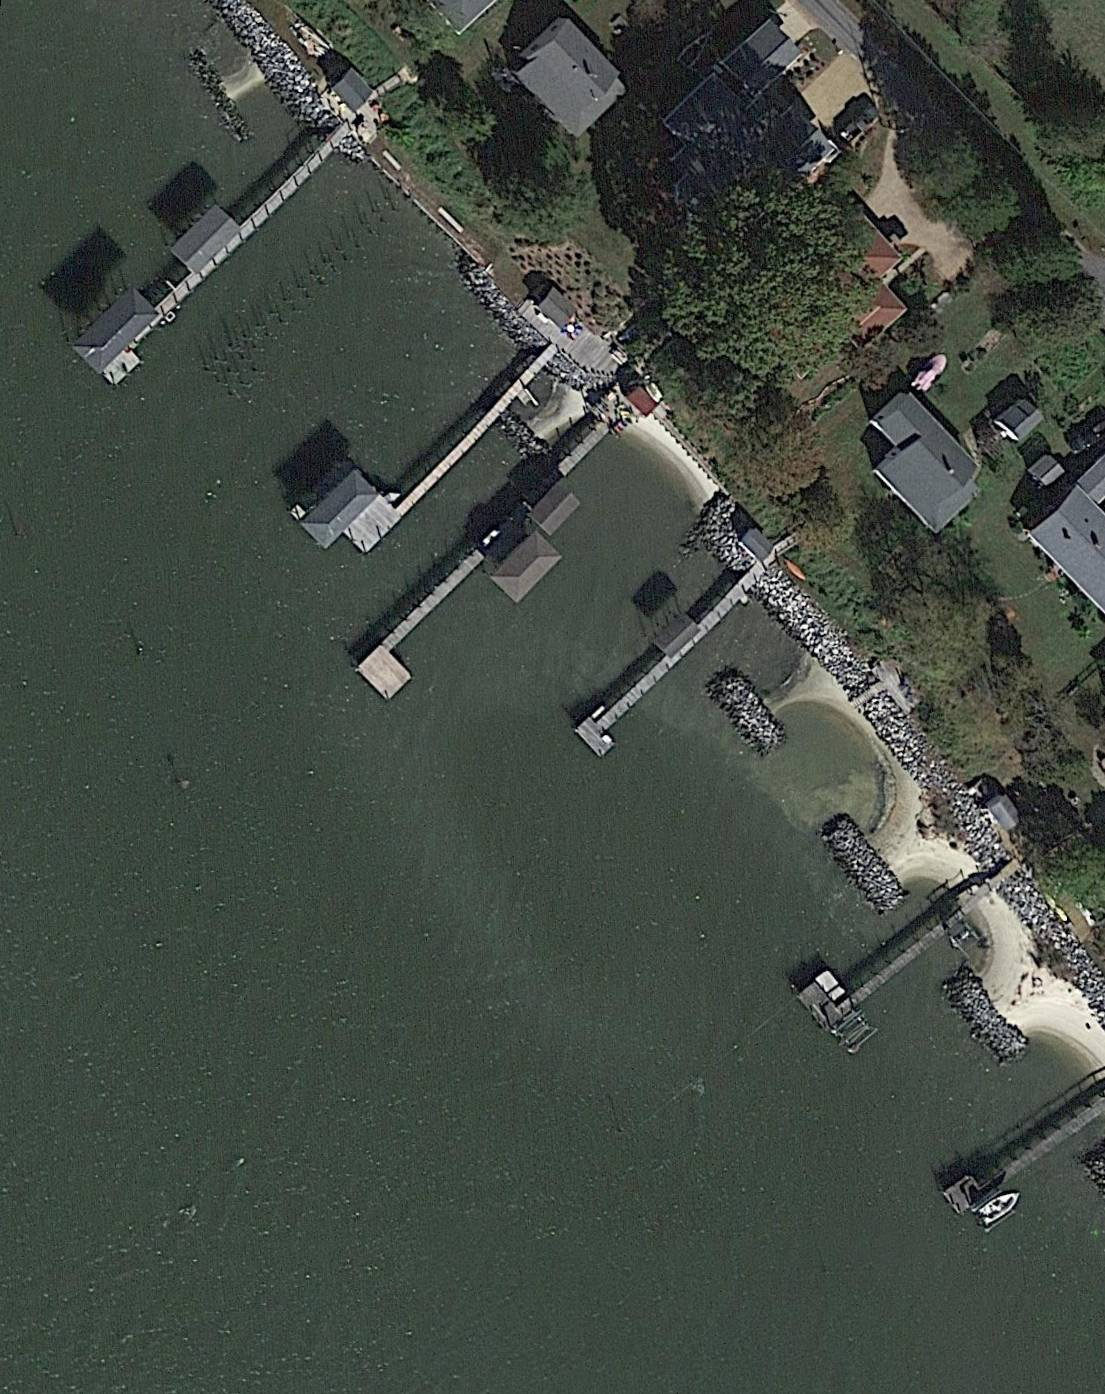harbor: (70, 129, 335, 392), (354, 456, 601, 704), (299, 341, 525, 574), (572, 595, 743, 760), (943, 1072, 1105, 1220), (796, 892, 955, 1034)
ship: (976, 1184, 1025, 1230)
